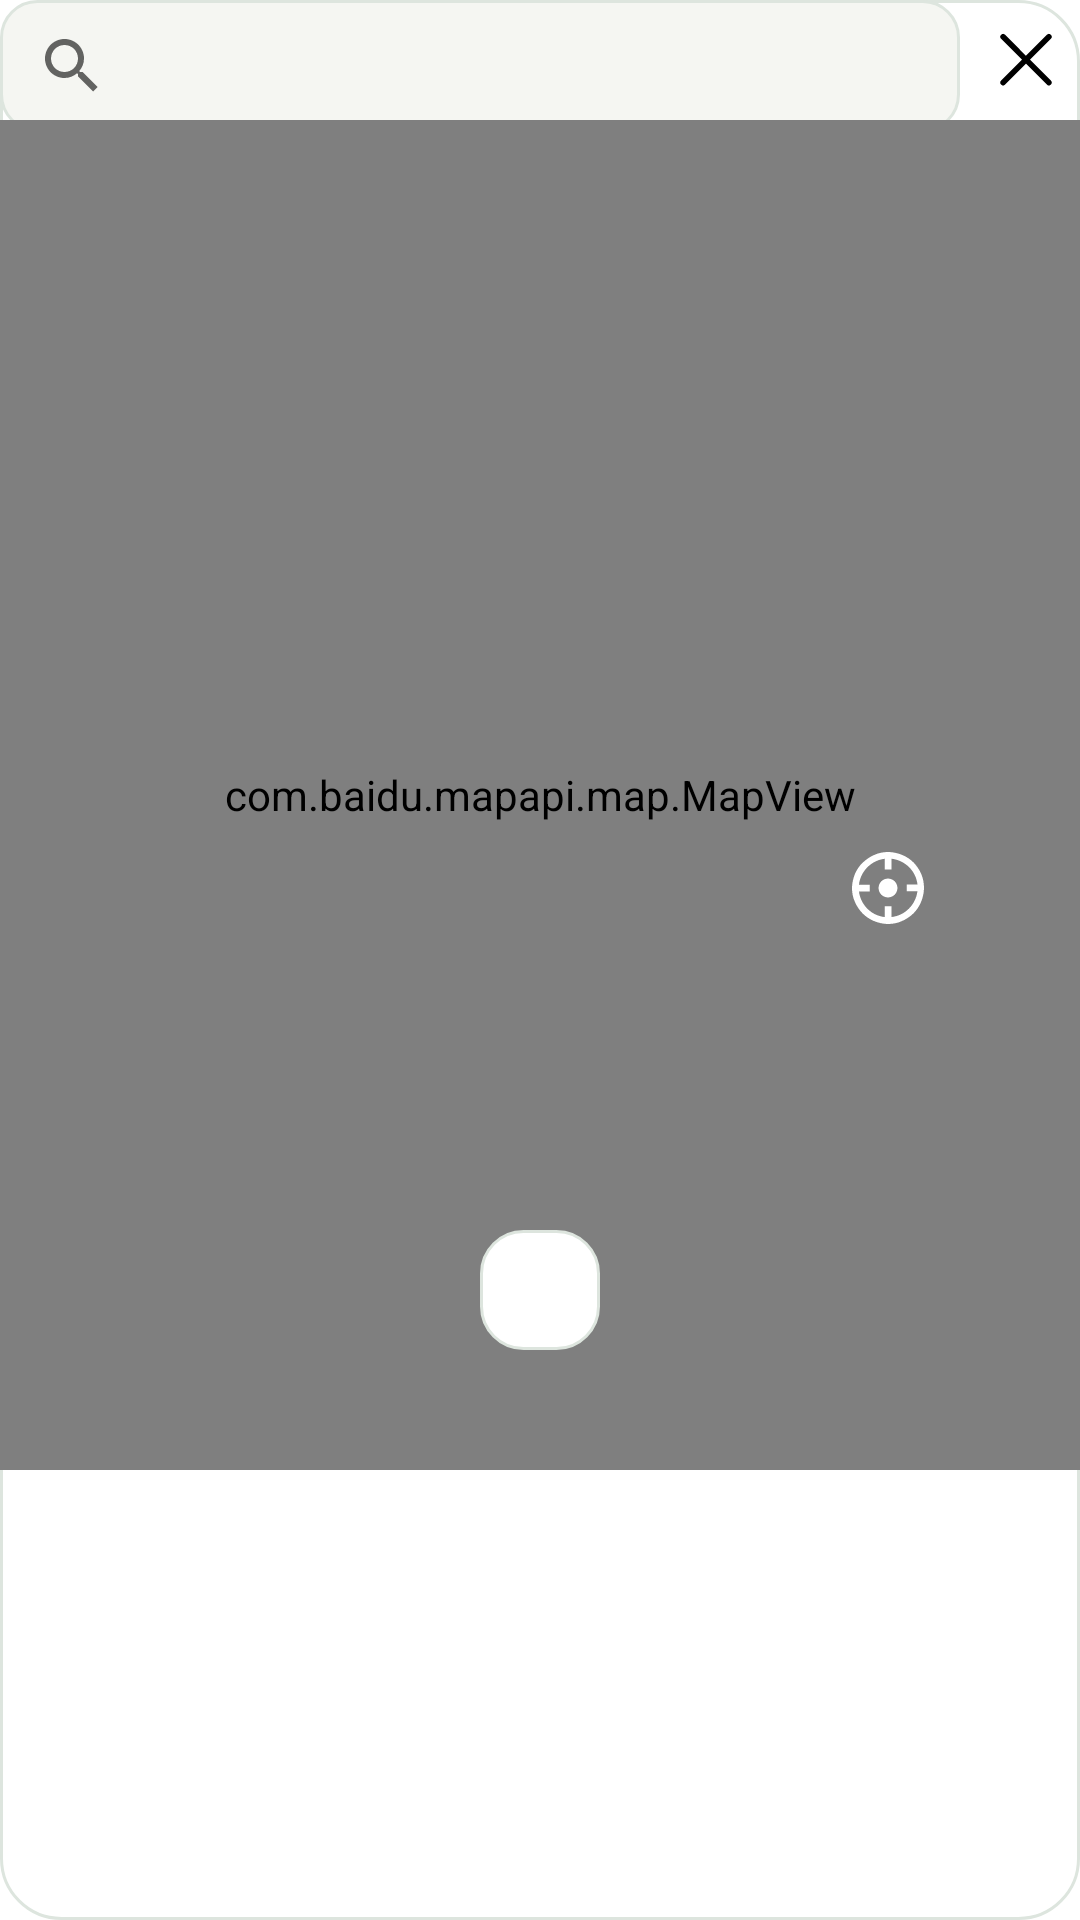

Named icons in this screenshot (1080 × 1920) and their centers, (x,y):
close: (1026,60)
home position: (888,888)
